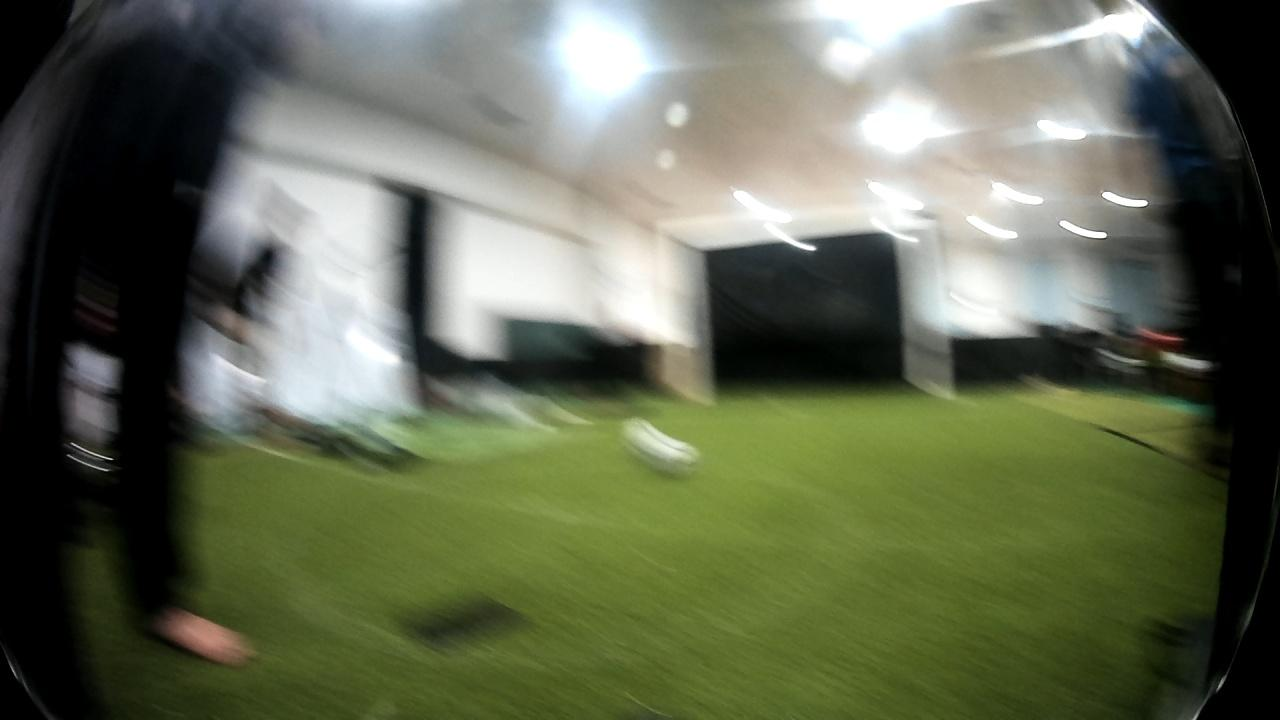ball: (611, 410, 702, 487)
